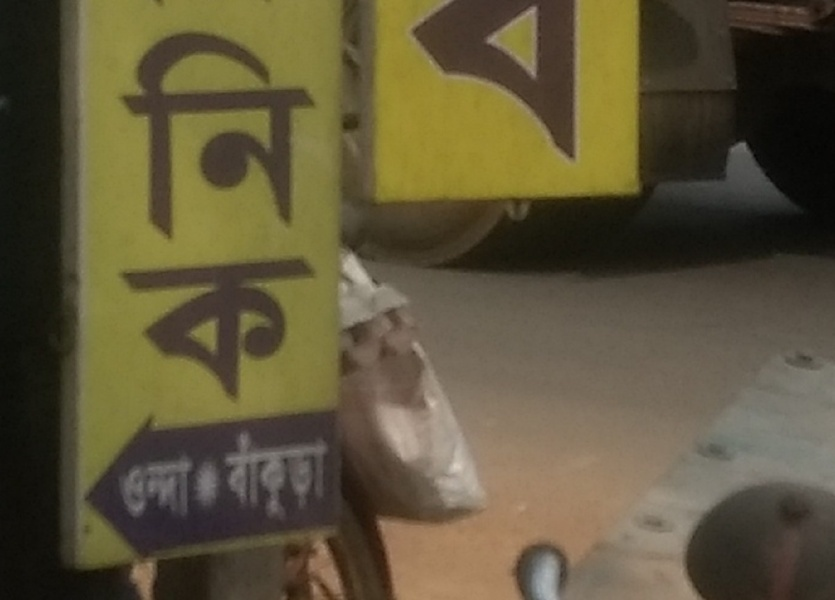text: (113, 26, 128, 410), (129, 26, 144, 410), (145, 26, 160, 410), (161, 26, 176, 410), (177, 26, 192, 410), (193, 26, 208, 410), (209, 26, 224, 410), (225, 26, 240, 410), (241, 26, 256, 410), (257, 26, 272, 410), (273, 26, 288, 410), (289, 26, 304, 410), (305, 26, 320, 410), (401, 1, 416, 174), (417, 1, 432, 174), (433, 1, 448, 174), (449, 1, 464, 174), (465, 1, 480, 174), (481, 1, 496, 174), (497, 1, 512, 174), (513, 1, 528, 174), (529, 1, 544, 174), (545, 1, 560, 174), (561, 1, 576, 174), (577, 1, 587, 174), (321, 421, 337, 526), (225, 421, 240, 526), (241, 421, 256, 526), (257, 421, 272, 526), (273, 421, 288, 526), (289, 421, 304, 526), (305, 421, 320, 526), (109, 26, 112, 410), (321, 26, 324, 410), (129, 454, 144, 524), (145, 454, 160, 524), (161, 454, 176, 524), (177, 454, 192, 524), (217, 421, 224, 526), (396, 1, 400, 174), (119, 454, 128, 524), (161, 2, 177, 16), (145, 2, 160, 16), (193, 454, 195, 524), (138, 2, 144, 16)
